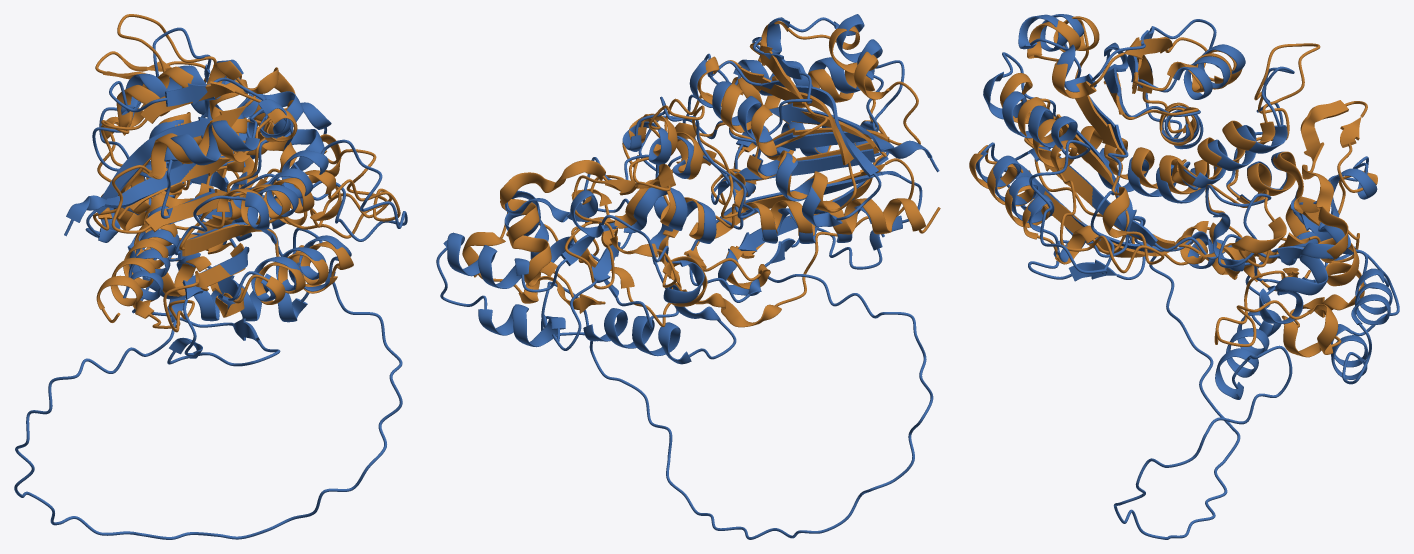
Rendered from AF-A0A6I4ZMH2-F1-AF-Q6ICS7-F1_TM-align.glb.
3 renders of one model, left to right at view 1: azimuth 30°, elevation 25°; view 2: azimuth 150°, elevation 25°; view 3: azimuth 270°, elevation 25°, orthographic. The views are drawn at different scales.
Size of the model in its own units: 63.28 by 71.72 by 58.55.
